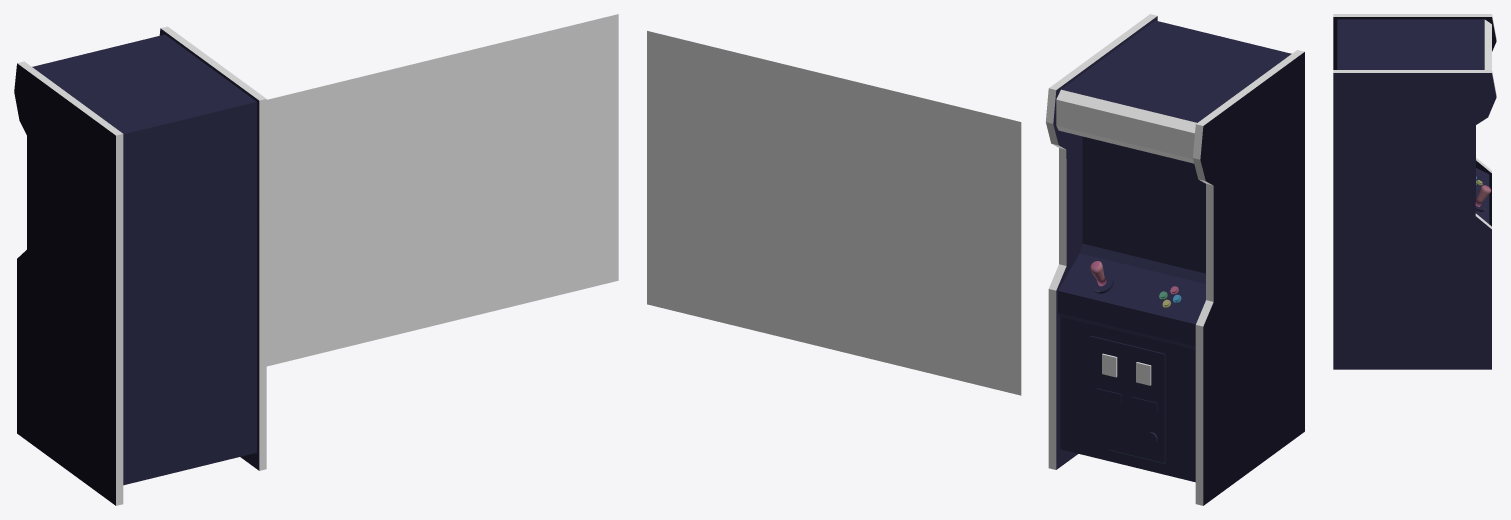
Rendered from ArcadeCabinet_AnnieZhang_v02.fbx.
The picture shows the model from 3 angles, left to right: view 1: azimuth 30°, elevation 25°; view 2: azimuth 150°, elevation 25°; view 3: azimuth 270°, elevation 25°; orthographic projection. The views are drawn at different scales.
Visible parts, largest first — view 1: Button_U, Cabinetconcept2_AlexisHuang; view 2: Button_U, Cabinetconcept2_AlexisHuang; view 3: Button_U.
Boxes of the visible parts, left/top/right/bottom form: Button_U: left=14, top=26, right=266, bottom=505; Cabinetconcept2_AlexisHuang: left=266, top=14, right=618, bottom=366; Button_U: left=1045, top=14, right=1304, bottom=505; Cabinetconcept2_AlexisHuang: left=647, top=31, right=1021, bottom=395; Button_U: left=1333, top=14, right=1496, bottom=369.
Size of the model in its own units: 684 by 423 by 211.
Materials: 3 (1 with a texture image).
